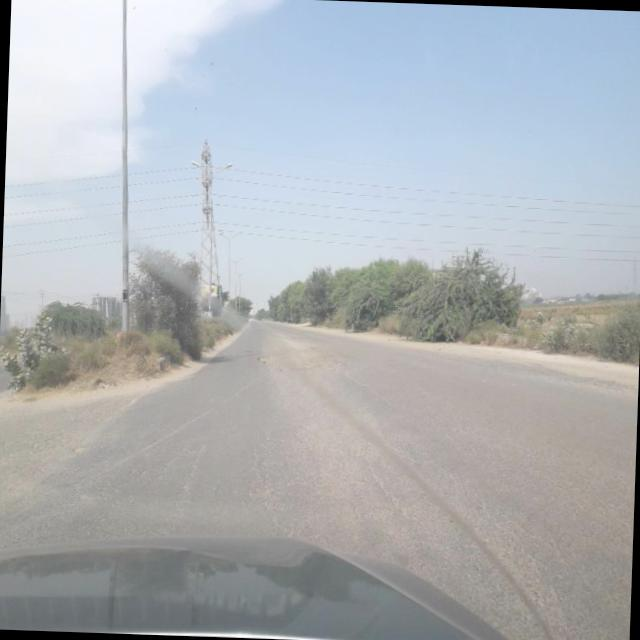crack: (354, 448, 433, 540)
